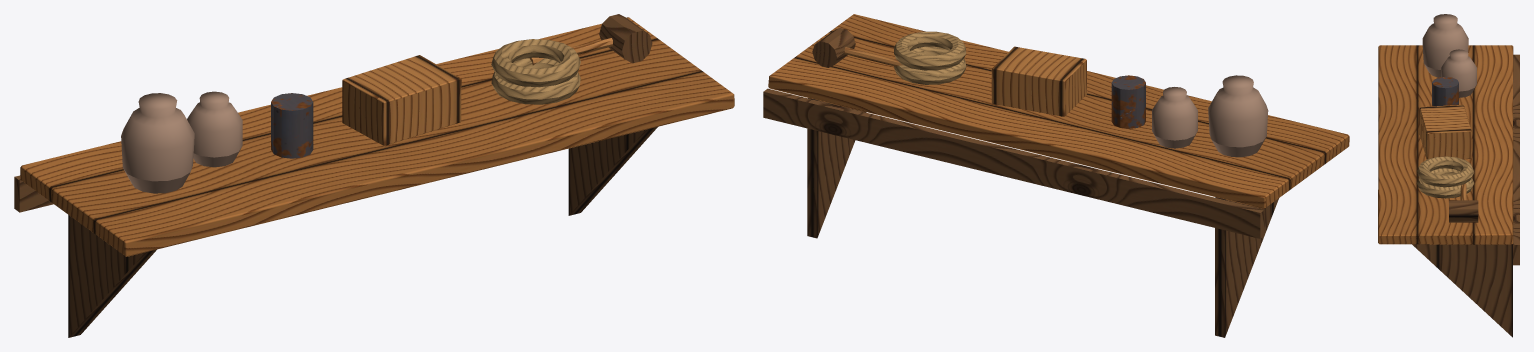
Rendered from Shelf.glb.
3 views of the same model, side by side, from view 1: azimuth 30°, elevation 25°; view 2: azimuth 150°, elevation 25°; view 3: azimuth 270°, elevation 25° (orthographic). The views are drawn at different scales.
Visible parts, largest first — view 1: Shelf; view 2: Shelf; view 3: Shelf.
Boxes of the visible parts, <box> form: Shelf: <box>14,14,734,337</box>; Shelf: <box>763,14,1349,337</box>; Shelf: <box>1378,14,1519,337</box>.
Size of the model in its own units: 2 by 0.835 by 0.6299.
7 materials, 6 textured.
